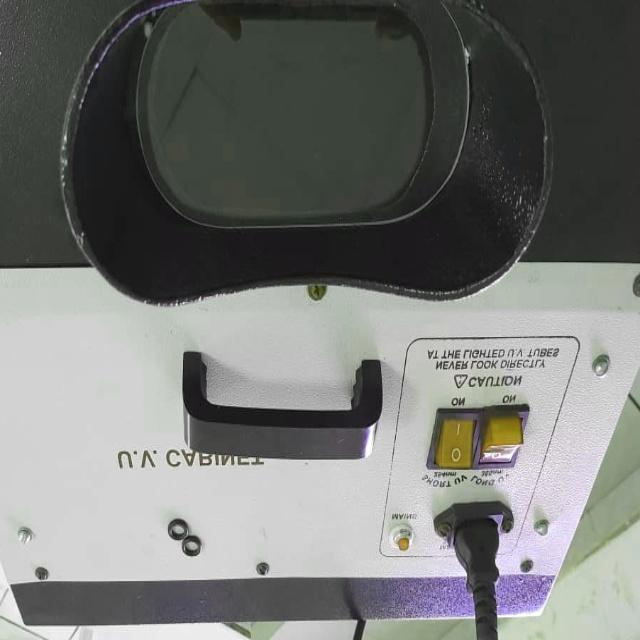U.V Cabinet: (18, 0, 640, 626)
